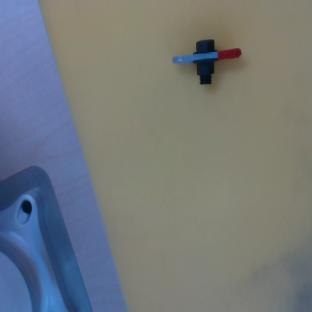part_1_good: (170, 20, 243, 92)
